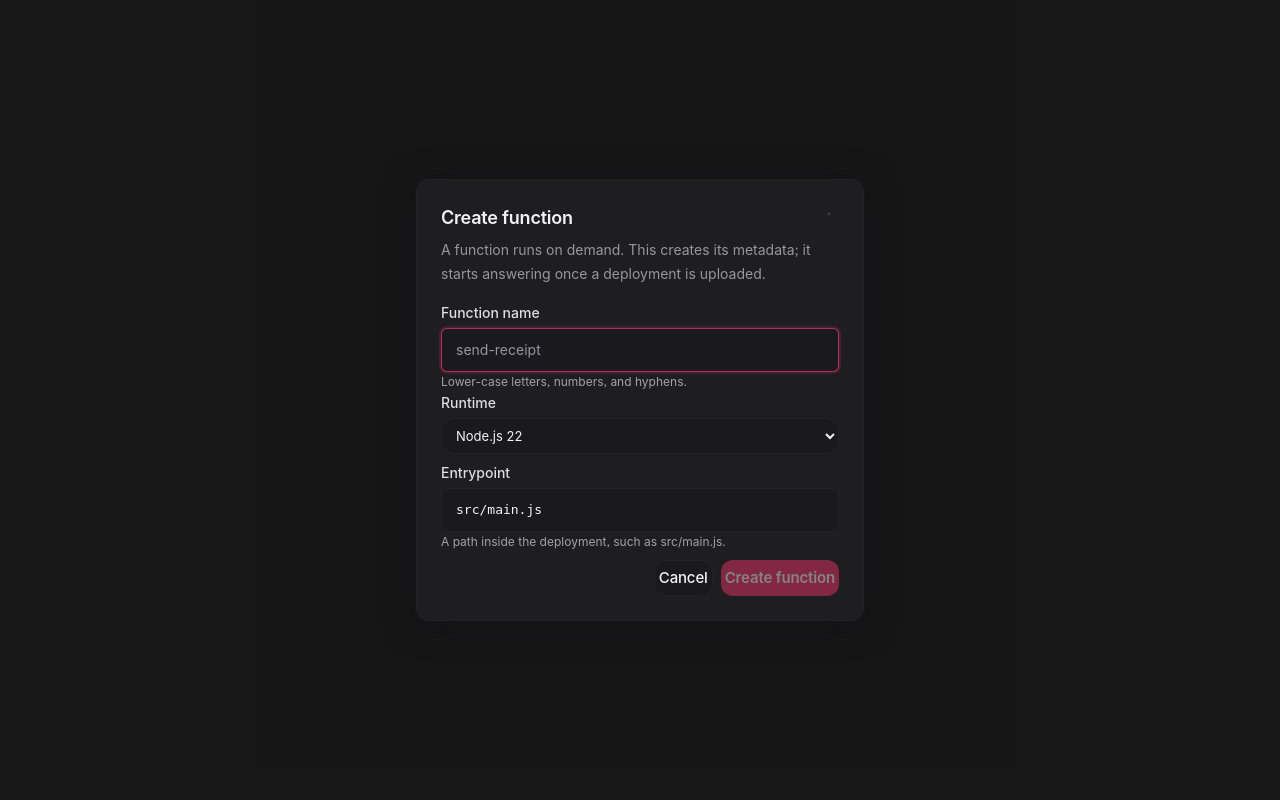
CreateFunctionDialog › normalizes the name and defaults to Node with its entrypoint
Type "Send Receipt" into the field labelled "Function name".
click(640, 350); type("Send Receipt")  # box [441,328,839,372]
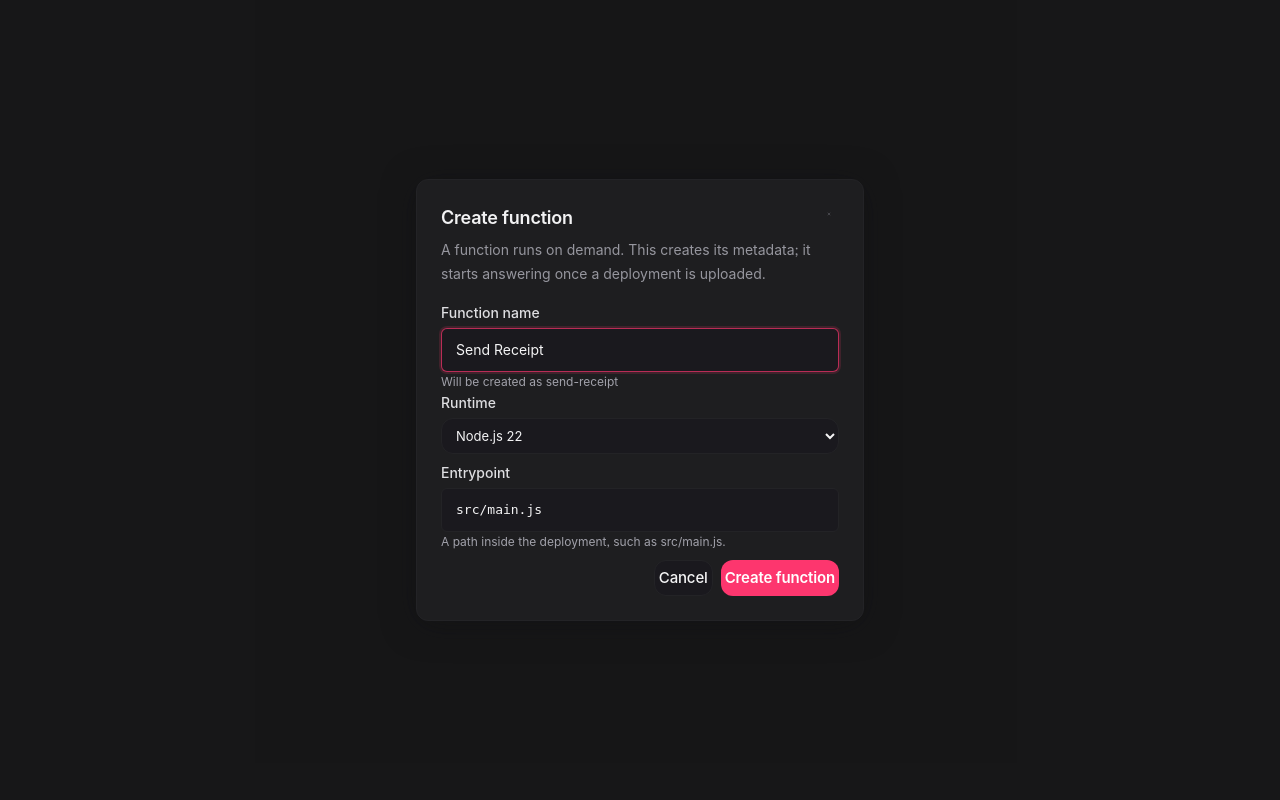
Expected: the dropdown labelled "Runtime" shows "Node.js 22", [441,418,839,454]
Expected: the text "Will be created as send-receipt" is shown, [441,374,618,389]
